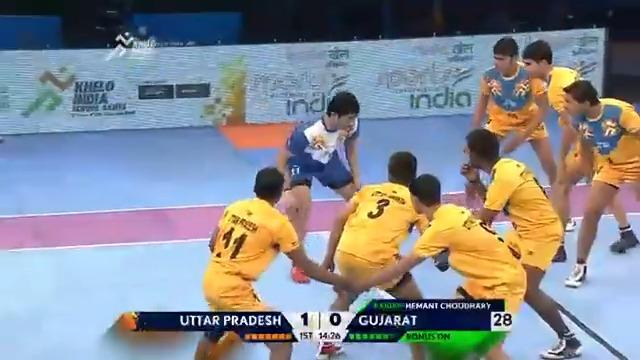Player: (347, 172, 528, 358), (193, 165, 352, 359), (459, 127, 583, 358), (315, 150, 428, 358), (519, 39, 598, 261), (557, 79, 639, 287), (470, 36, 558, 189), (18, 63, 76, 118), (104, 29, 134, 61)
Raider: (275, 90, 361, 284)
